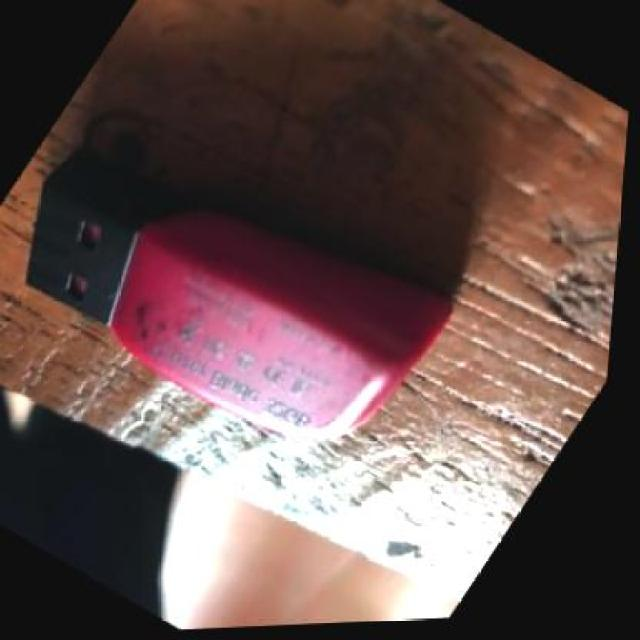Flashdisk: (0, 70, 503, 505)
